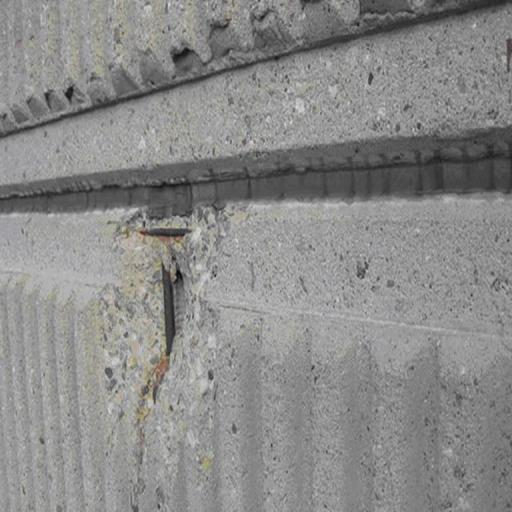spalling: (106, 215, 221, 461)
